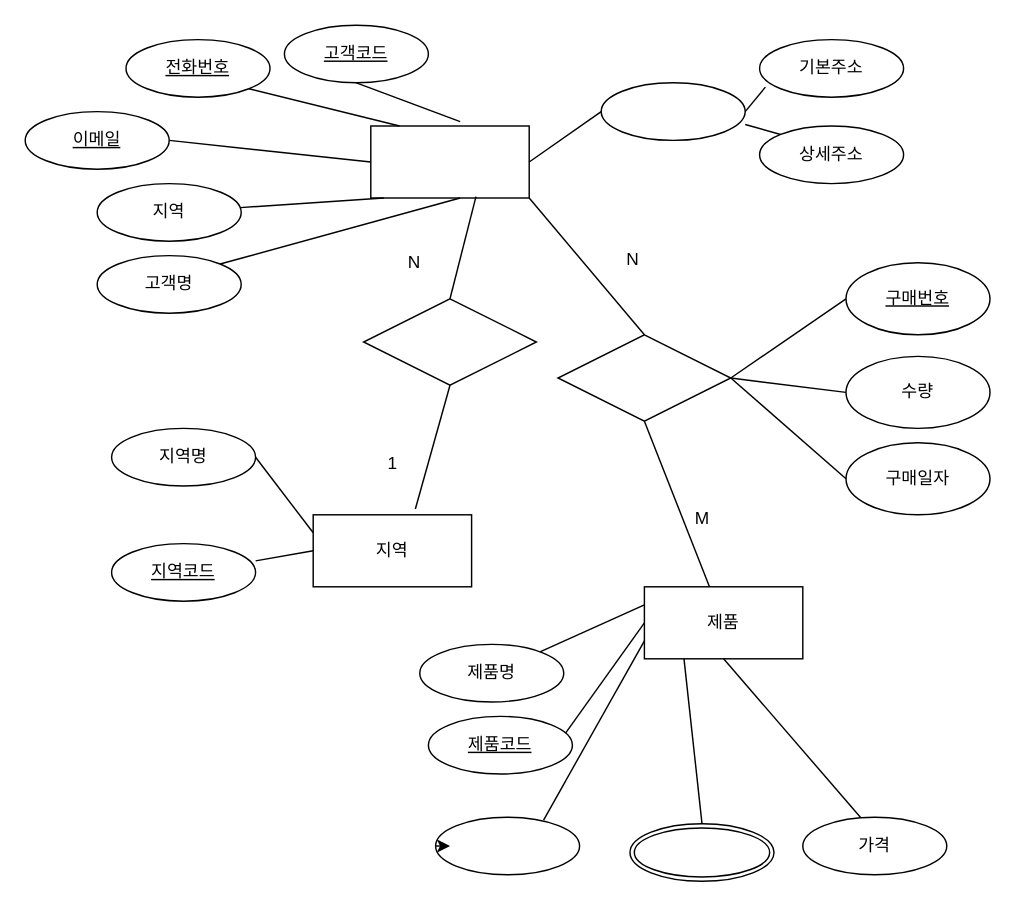
Image size: 1015x919. Some labels were removed from this diagram. Here are the shapes that lost their labels. From the top down, the centre of each, then its label:
the point at 672,110: 주소
the point at 449,161: 고객
the point at 449,341: 관리
the point at 644,377: 구매
the point at 507,845: 제품구분
the point at 701,851: 제품색상
